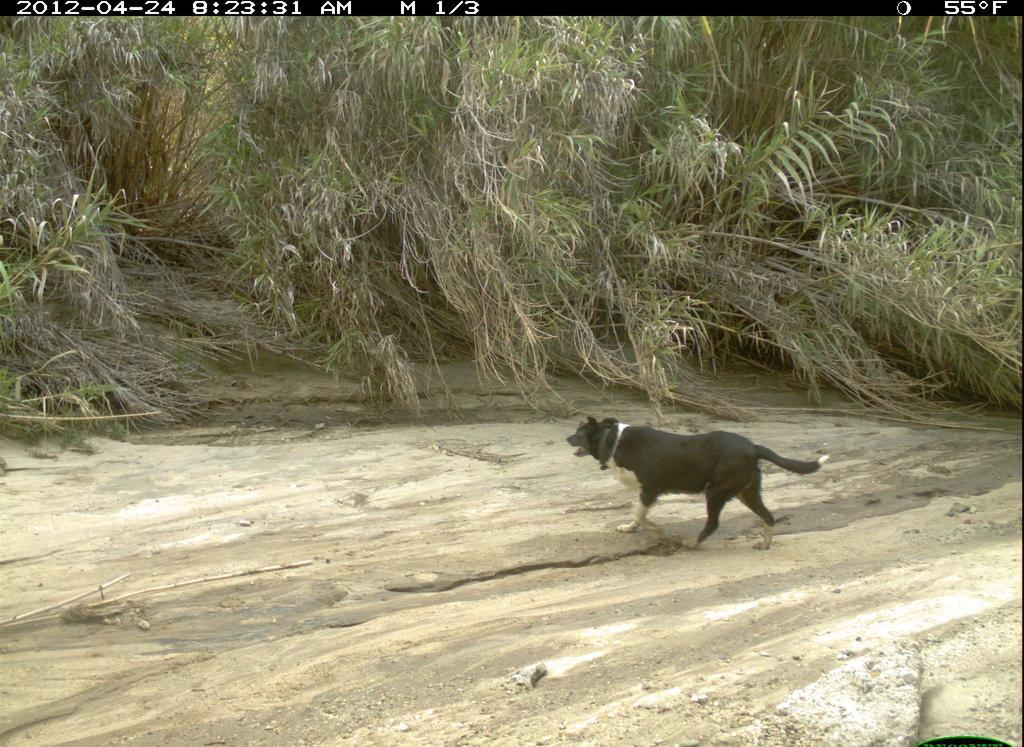dog: (548, 406, 836, 568)
